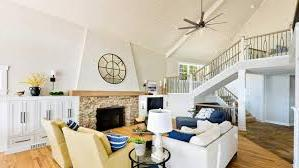chair: (63, 128, 142, 168), (40, 115, 75, 168)
clock: (92, 53, 131, 86)
fan: (175, 1, 229, 38)
light: (146, 108, 173, 163), (47, 67, 57, 92), (163, 77, 168, 96), (248, 2, 258, 10), (157, 79, 162, 94)
sofa: (159, 115, 240, 168)
table: (110, 128, 165, 148), (128, 145, 173, 168)
